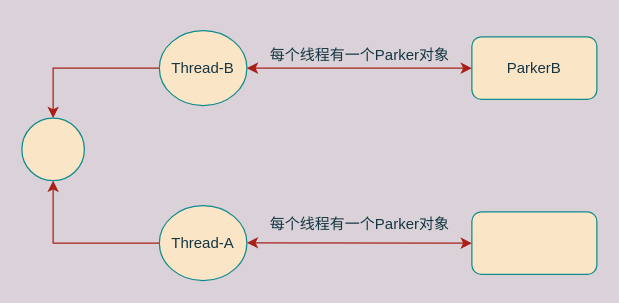
Some shapes in this 619 by 303 pixel diagram are drawn without their labels. Each missing label, with the box of its shape:
ParkerA: (471, 211, 597, 274)
state: (21, 117, 84, 181)
